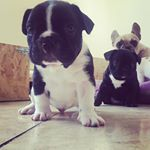puppy: (18, 1, 108, 129), (93, 50, 141, 109), (107, 22, 150, 51)
